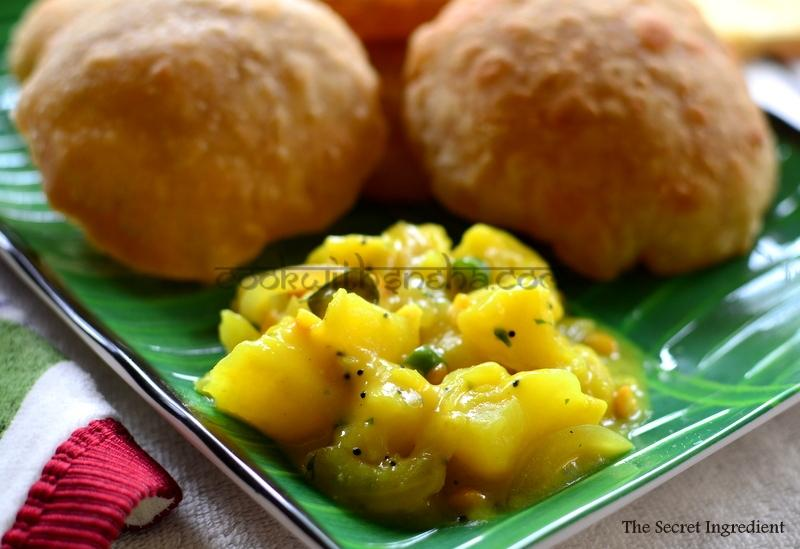puri: (29, 0, 800, 231)
